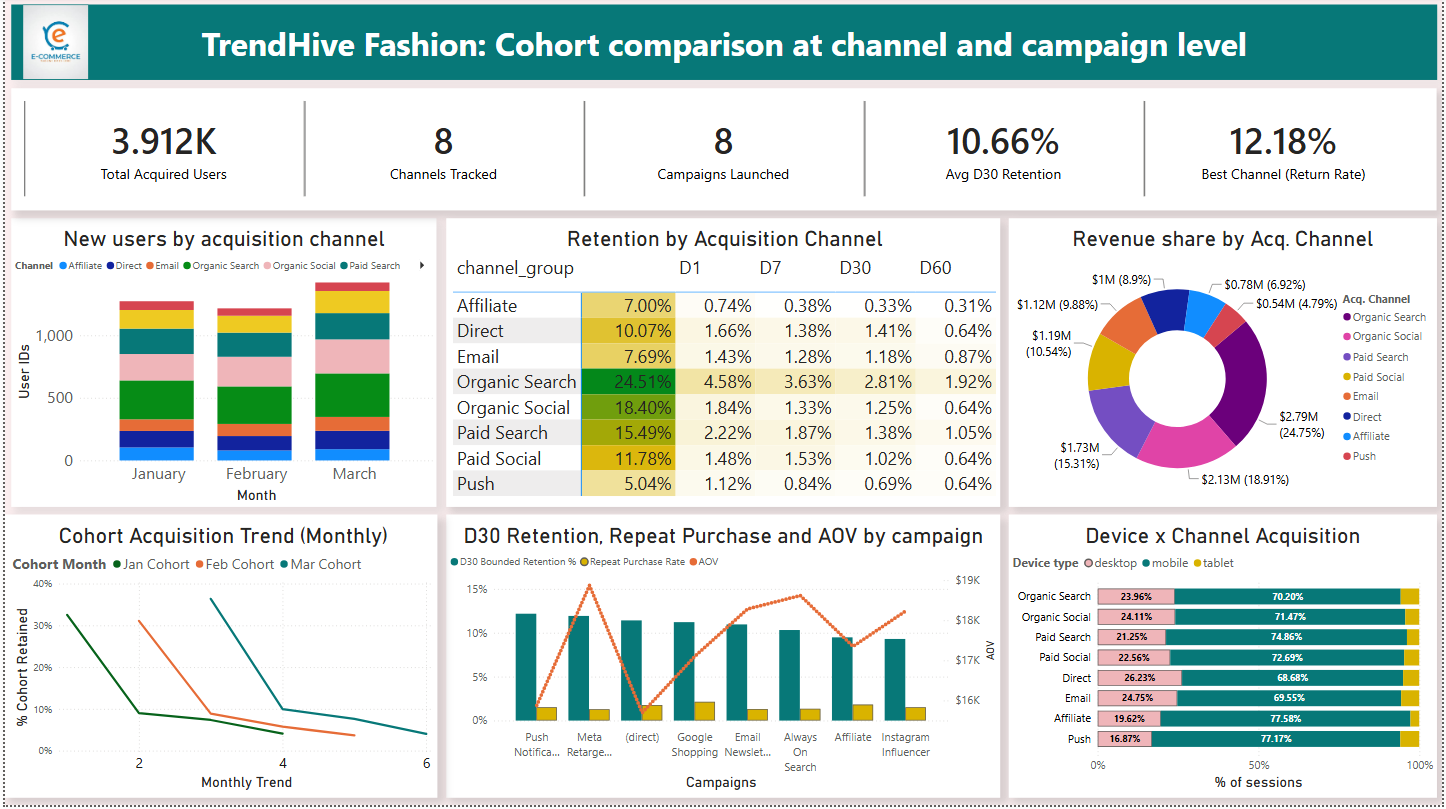

This screenshot's page, from the dashboard's own definition file:
{"tool":"powerbi","page":{"name":"Acquisition Cohort","canvas":[1920,1080],"ordinal":0},"visuals":[{"type":"columnChart","title":"New users by acquisition channel","fields":{"Category":["Sheet1.first_visit_date.Variation.Date Hierarchy.Month"],"Series":["Sheet1.channel_group"],"Y":["Count(Sheet1.customer_id)"]},"box":[9,295,568.2,385.5],"z":0},{"type":"textbox","box":[8.7,10.5,1904.7,101.2],"z":1000},{"type":"image","box":[22.7,10.5,89,101.2],"z":2000},{"type":"cardVisual","fields":{"Data":["Count(Sheet1.customer_id)","Count(Sheet1.channel_group)","Count(Sheet1.campaign)","Sheet1.Avg D30 Retention","Sheet1.Best Channel Return Rate"]},"box":[9,121.2,1903.8,162.9],"z":3000},{"type":"pivotTable","title":"Retention by Acquisition Channel","fields":{"Values":["Sheet1.Grid Retention %"],"Columns":["Sheet1.RetentionBucket"],"Rows":["Sheet1.channel_group"]},"box":[589.9,295,740.2,385.5],"z":4000},{"type":"lineClusteredColumnComboChart","title":"D30 Retention, Repeat Purchase and AOV by campaign","fields":{"Category":["Sheet1.campaign"],"Y":["Sheet1.D30 Retention % (Sign-up)","Sheet1.Repeat Purchase Rate"],"Y2":["Sheet1.AOV"]},"box":[589.9,691.3,740.2,378.2],"z":5000},{"type":"lineChart","title":"Cohort Acquisition Trend (Monthly)","fields":{"Category":["Sheet1.month"],"Y":["Sheet1.% Cohort Retained"],"Series":["Sheet1.Cohort Month"]},"box":[0,691.3,577.3,378.2],"z":6000},{"type":"donutChart","title":"Revenue share by Acq. Channel","fields":{"Category":["Sheet1.channel_group"],"Y":["Sum(Sheet1.net_revenue)"]},"box":[1341,295,571.9,385.5],"z":7000},{"type":"hundredPercentStackedBarChart","title":"Device x Channel Acquisition","fields":{"Category":["Sheet1.channel_group"],"Series":["Sheet1.device_category"],"Y":["CountNonNull(Sheet1.customer_id)"]},"box":[1341,691.3,571.9,378.2],"z":8000}]}

Visuals, with their boxes in screenshot pixels (x1, y1, x2, y2), scaled from the page's 1920x1080 canvas onto the 1446x809 screenshot:
"New users by acquisition channel" columnChart: detection(7, 221, 435, 510)
textbox: detection(7, 8, 1441, 84)
image: detection(17, 8, 84, 84)
cardVisual - Count(Sheet1.customer_id) x Count(Sheet1.channel_group): detection(7, 91, 1441, 213)
"Retention by Acquisition Channel" pivotTable: detection(444, 221, 1002, 510)
"D30 Retention, Repeat Purchase and AOV by campaign" lineClusteredColumnComboChart: detection(444, 518, 1002, 801)
"Cohort Acquisition Trend (Monthly)" lineChart: detection(0, 518, 435, 801)
"Revenue share by Acq. Channel" donutChart: detection(1010, 221, 1441, 510)
"Device x Channel Acquisition" hundredPercentStackedBarChart: detection(1010, 518, 1441, 801)
